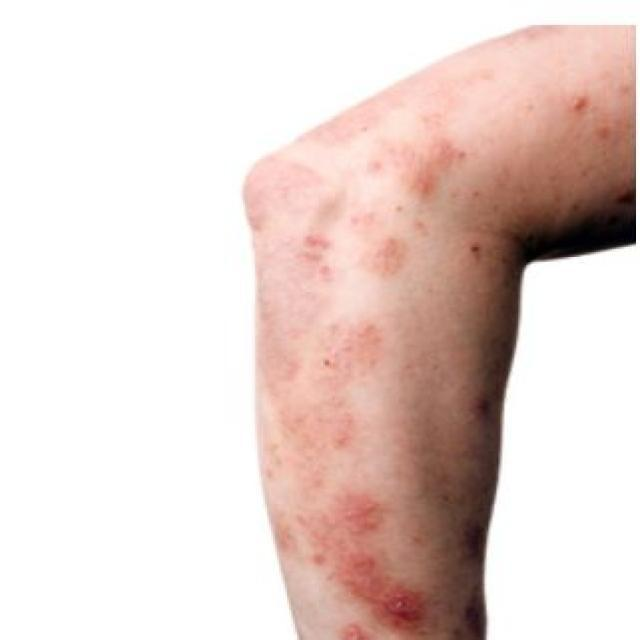Eczema: (233, 75, 482, 604)
